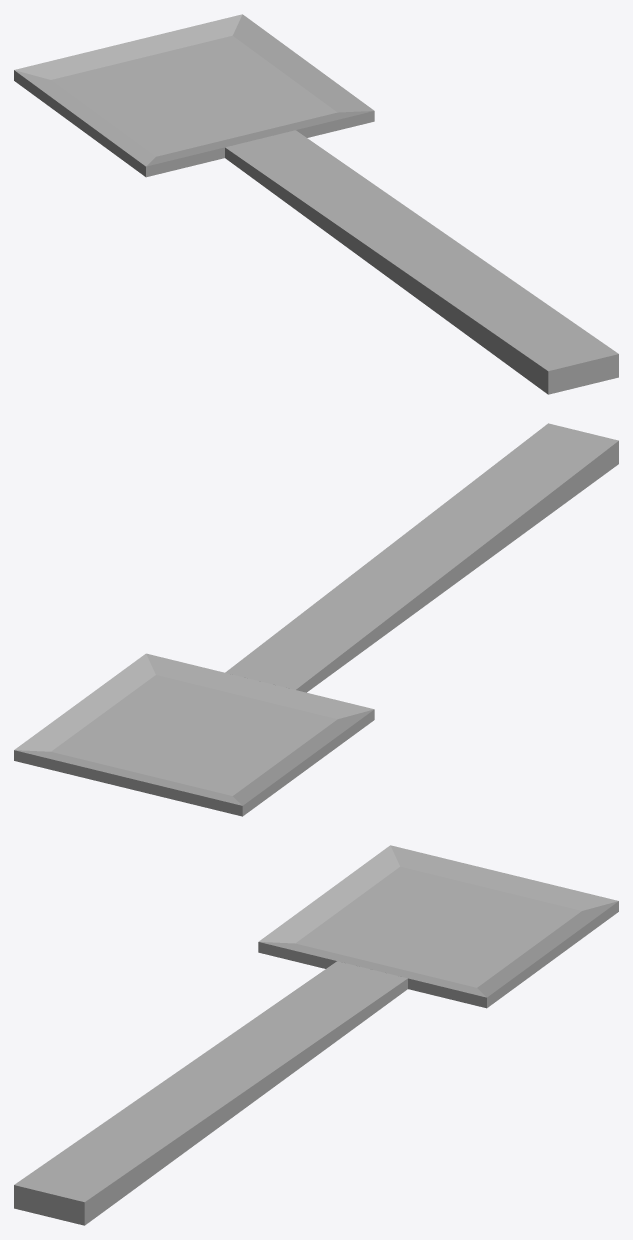
Rendered from Itr_Obj_Spoon_02.FBX.
3 renders of one model, top to bottom at view 1: azimuth 30°, elevation 25°; view 2: azimuth 150°, elevation 25°; view 3: azimuth 330°, elevation 25°, orthographic.
Visible parts, largest first — view 1: Itr_Obj_Spoon_02; view 2: Itr_Obj_Spoon_02; view 3: Itr_Obj_Spoon_02.
Boxes of the visible parts, x1,y1,x2,y2 form: Itr_Obj_Spoon_02: (14, 14, 618, 394); Itr_Obj_Spoon_02: (14, 423, 618, 816); Itr_Obj_Spoon_02: (14, 845, 618, 1225).
Size of the model in its own units: 1.41 by 0.1387 by 4.87.
